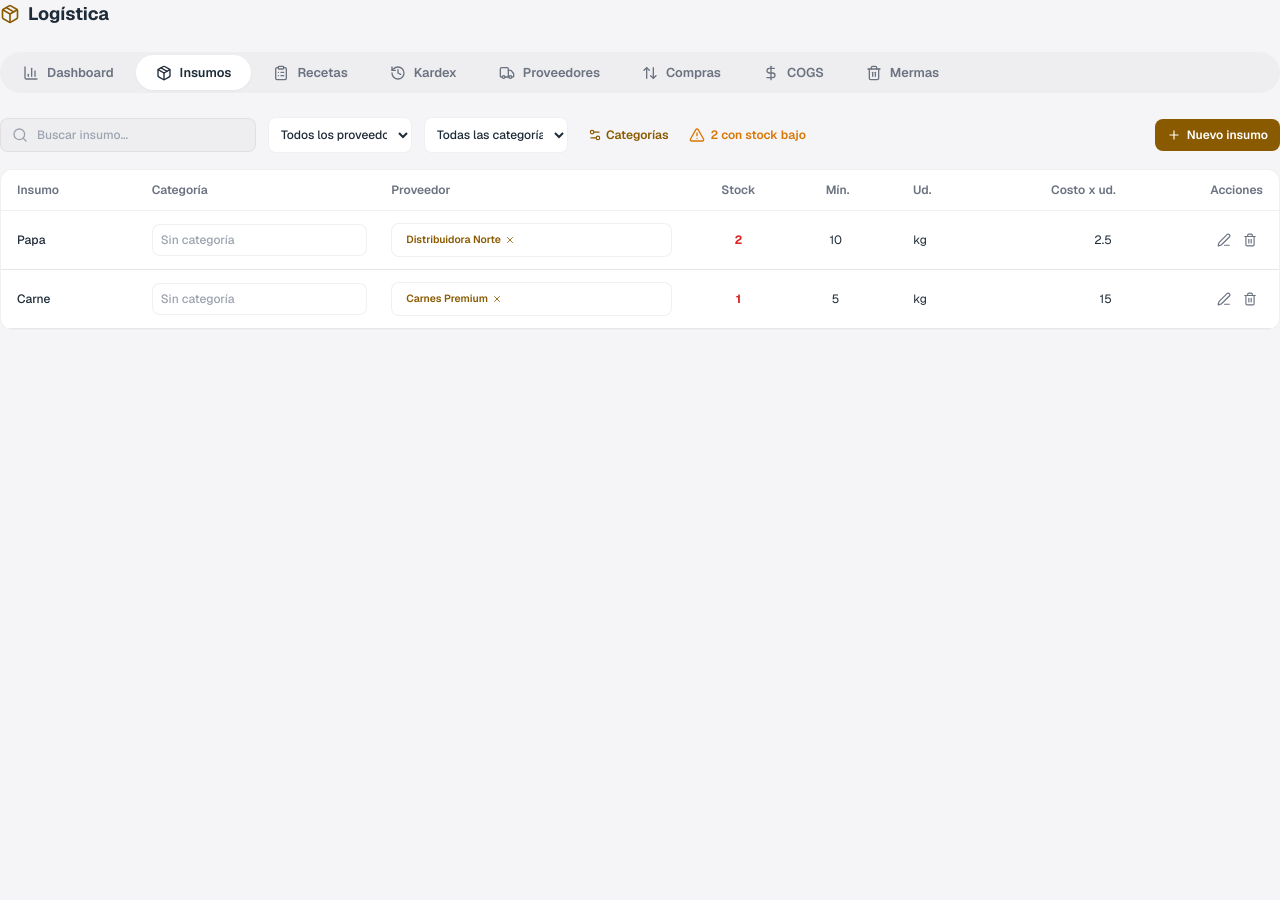
Test: PurchaseOrdersSection › muestra el error cuando la recepción falla (ej: ya recibida por otro lado)
Click the button "Compras" at (681, 73), box [622,55,741,90]
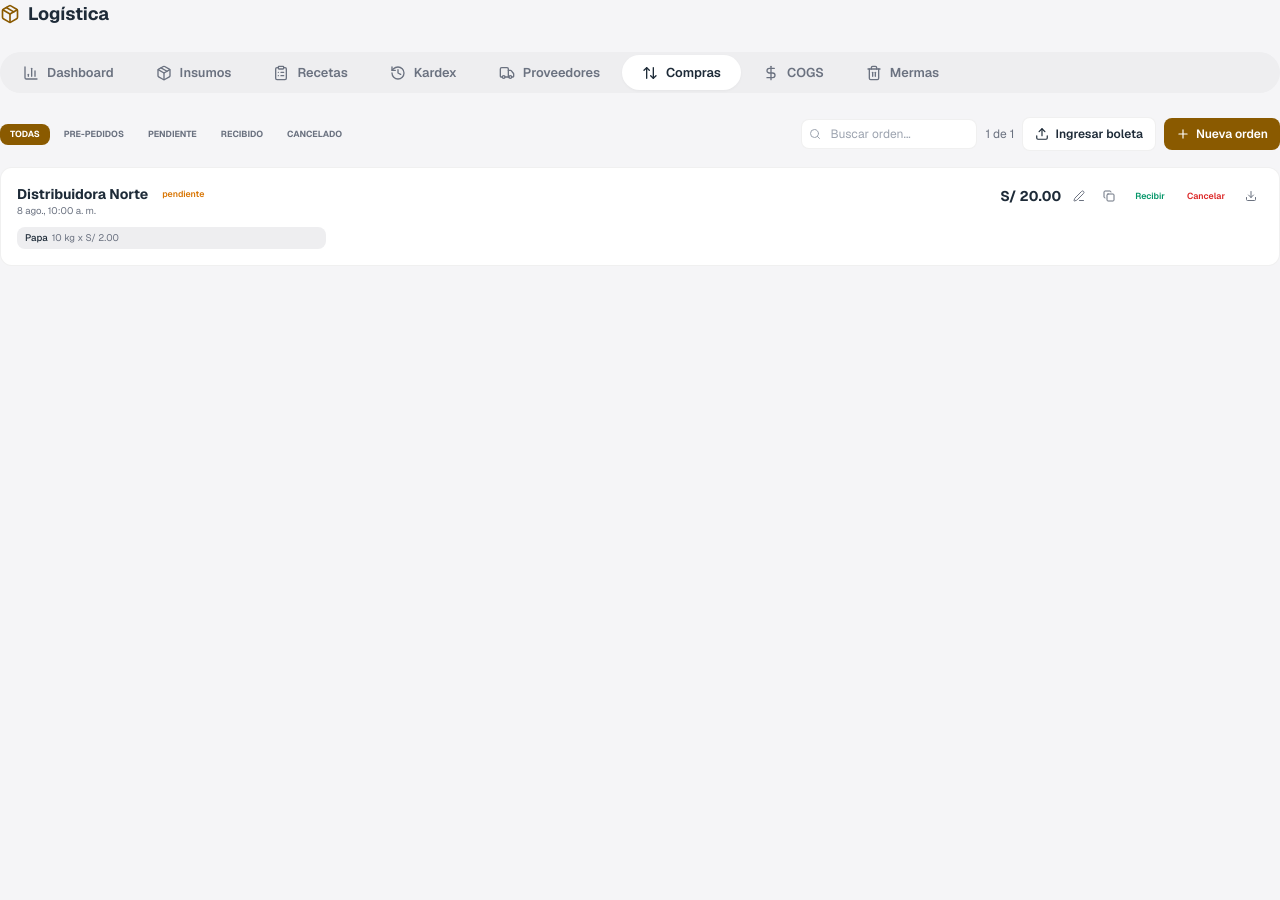
Expected: the text "Distribuidora Norte" is shown, [17,184,148,204]
Click the button "Recibir" at (1150, 196), box [1127,186,1173,207]
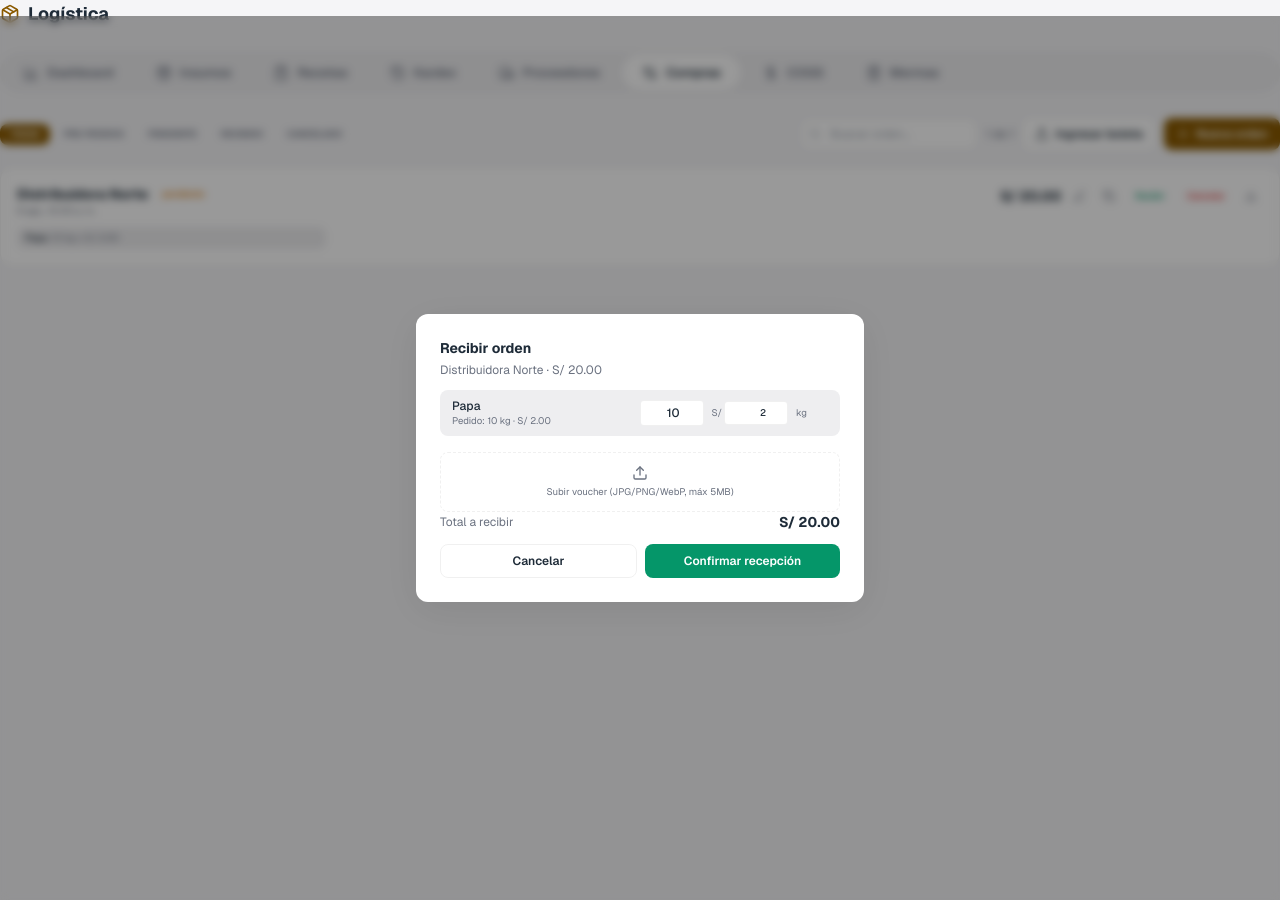
Expected: the button "Confirmar recepción" is shown
Click the button "Confirmar recepción" at (742, 561), box [645,544,840,578]
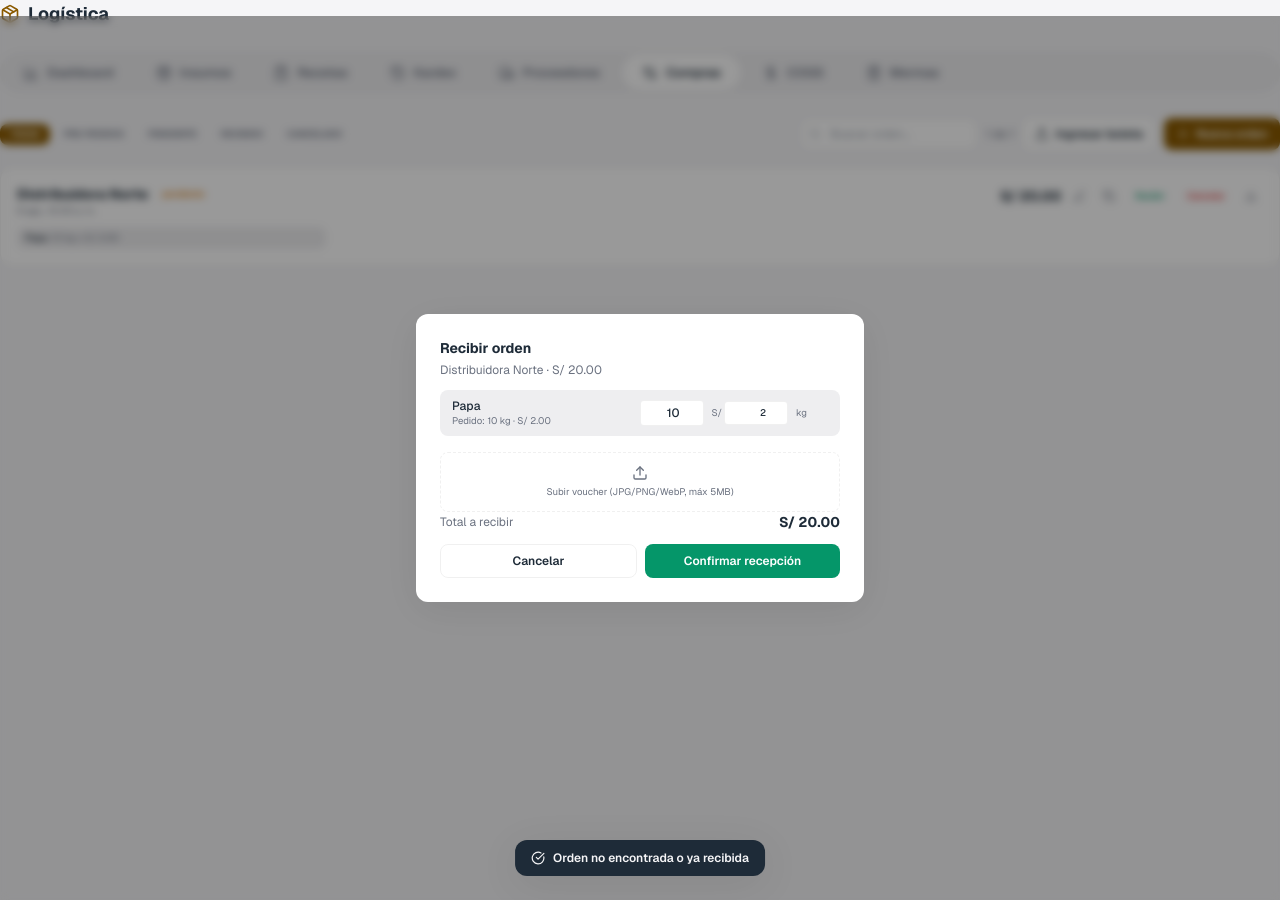
Expected: the button "Confirmar recepción" is shown, [645,544,840,578]
Expected: the text "Orden no encontrada o ya recibida" is shown, [515,840,765,876]
